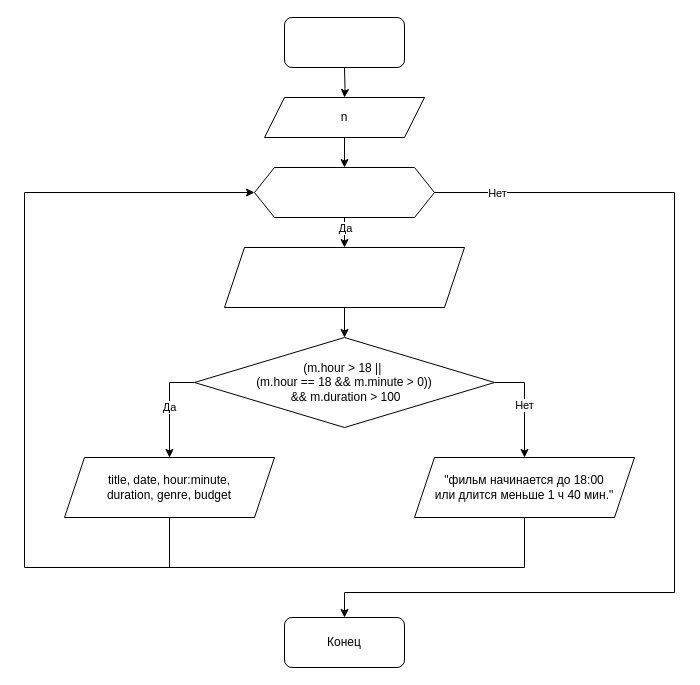
This 700x685 diagram has some shape labels left out. The centre of each missing label's shape, as x and y in pixels:
i = 0; i < n; i++: point (344, 192)
m.title, m.date, m.hour, m.minute, m.duration, m.genre, m.budget: point (344, 277)
Начало: point (344, 42)
